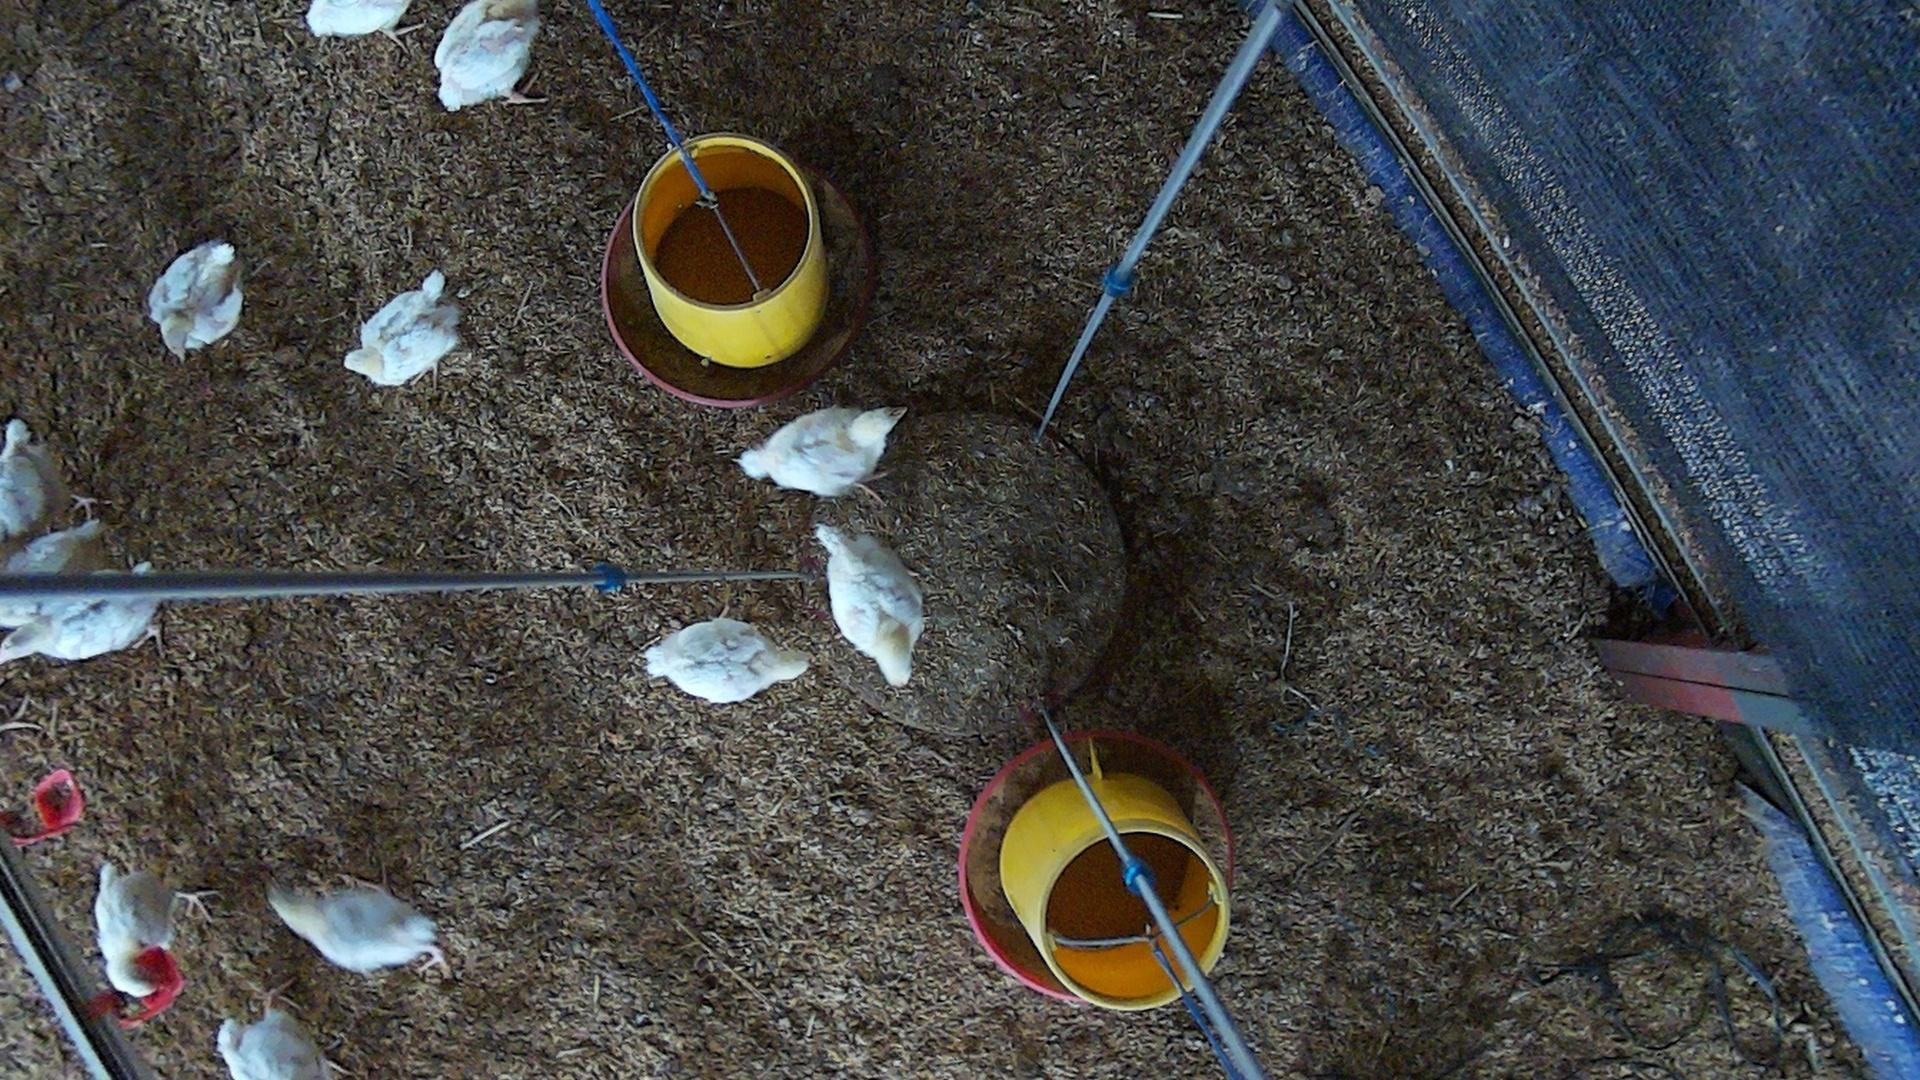ayam_broiler: (816, 524, 924, 687), (269, 877, 436, 975), (737, 406, 899, 496), (645, 617, 811, 702), (345, 269, 459, 385), (436, 0, 542, 109), (3, 592, 160, 658), (152, 241, 241, 356), (220, 1004, 336, 1080), (5, 516, 112, 579), (0, 419, 47, 537)
